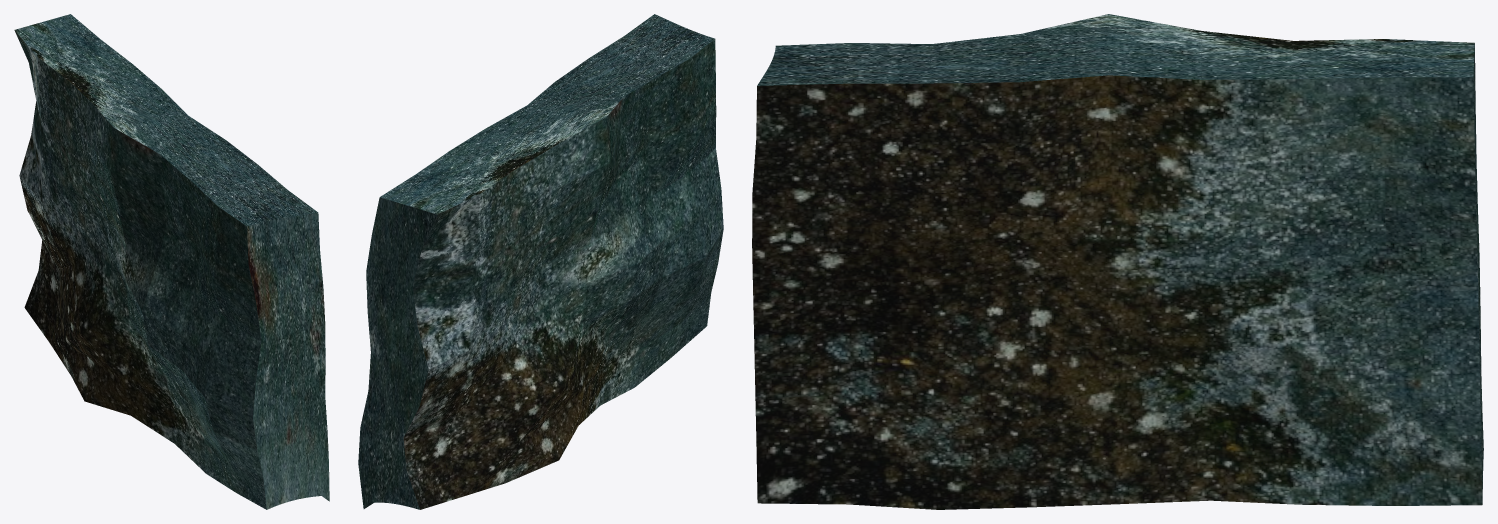
File: left Wall with texture .fbx
3 renders of one model, left to right at view 1: azimuth 30°, elevation 25°; view 2: azimuth 150°, elevation 25°; view 3: azimuth 270°, elevation 25°, orthographic. The views are drawn at different scales.
Parts seen in each view (by area): view 1: Wall2; view 2: Wall2; view 3: Wall2.
Part boxes in pixels (x1,y1,x2,y2): Wall2: (14, 14, 329, 509); Wall2: (358, 14, 723, 509); Wall2: (752, 14, 1483, 509).
Bounding box in the file's own units: 5.24 × 14.42 × 21.95.
Materials: 1 (1 with a texture image).
